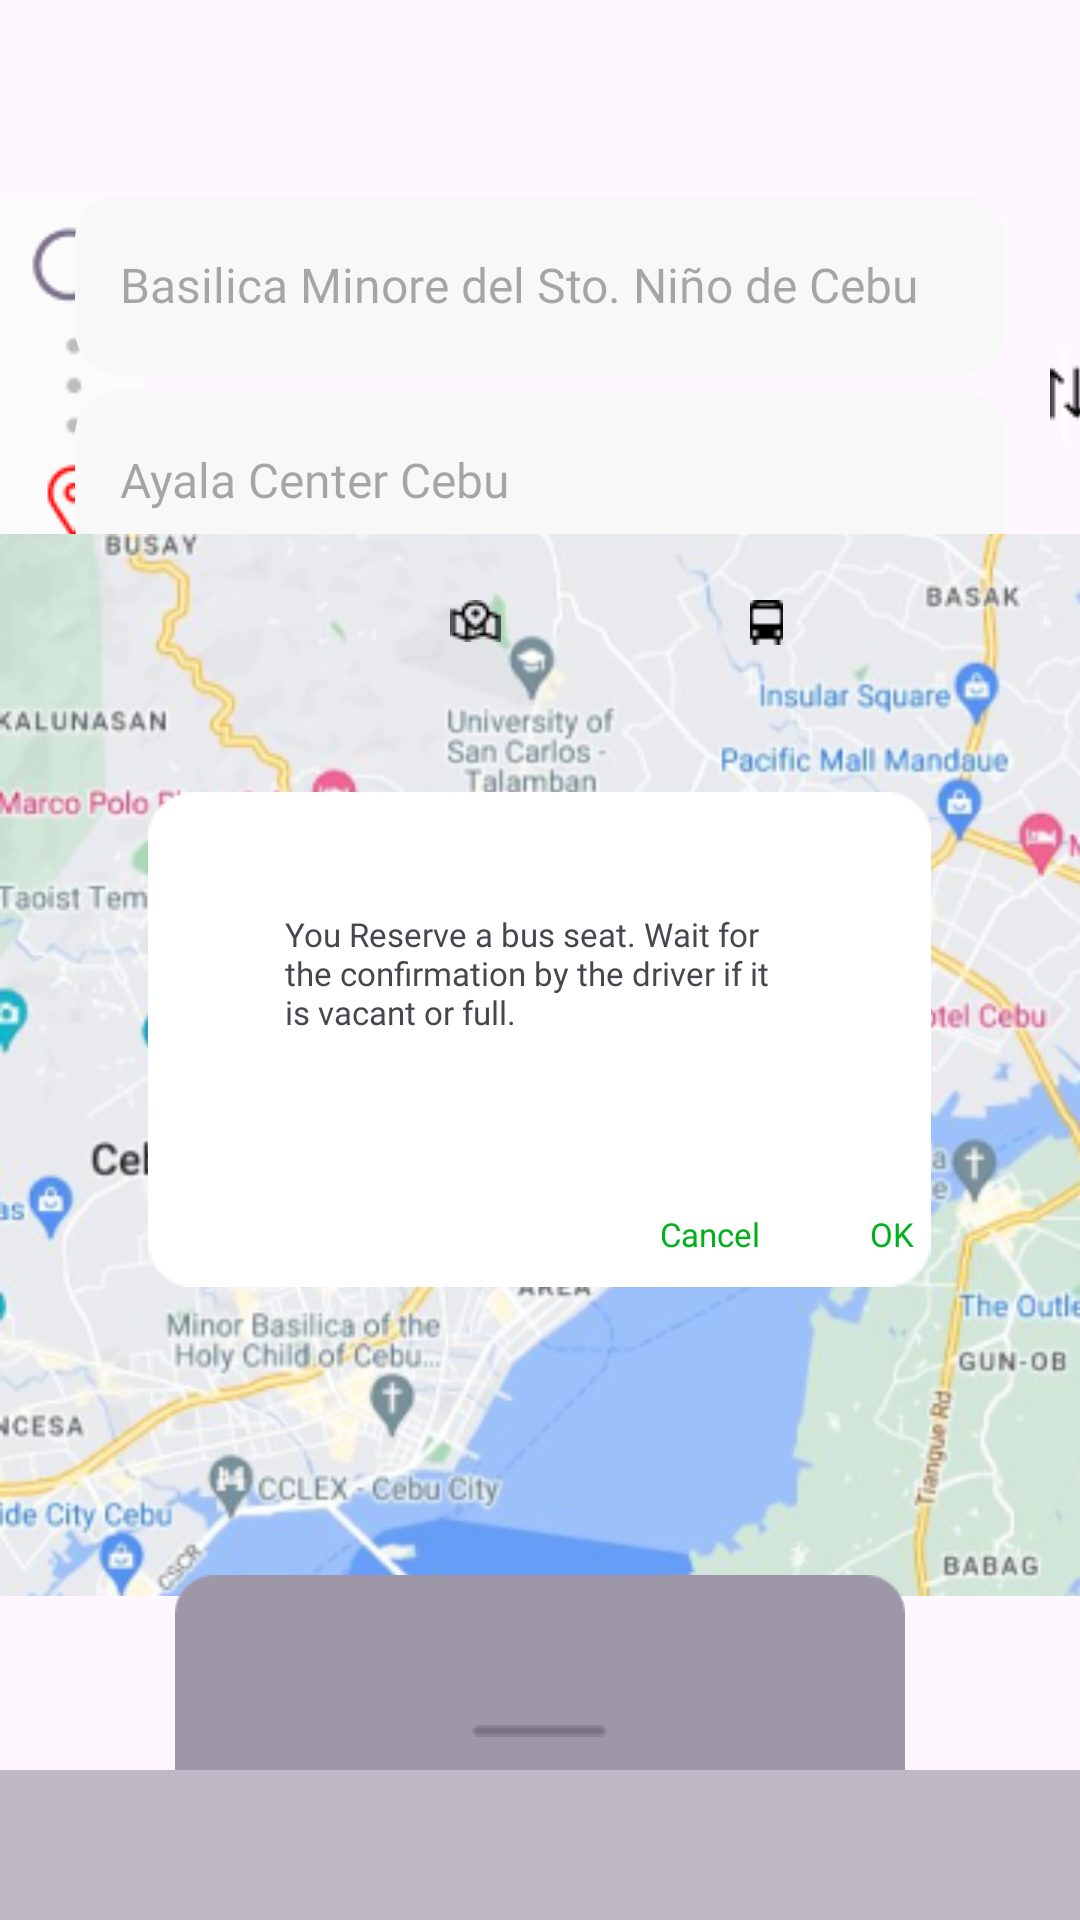

Named icons in this screenshot (1080px×1920px) and their centers, point (x, y):
busbutton: point (766, 622)
locationbutton: point (475, 621)
locationping: point (72, 402)
swap: point (1065, 393)
